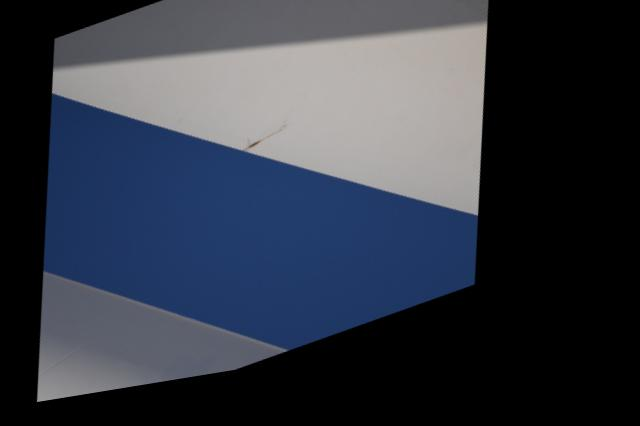damage: (252, 129, 302, 163)
